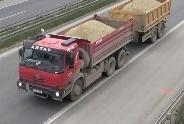truck: (17, 0, 172, 102)
